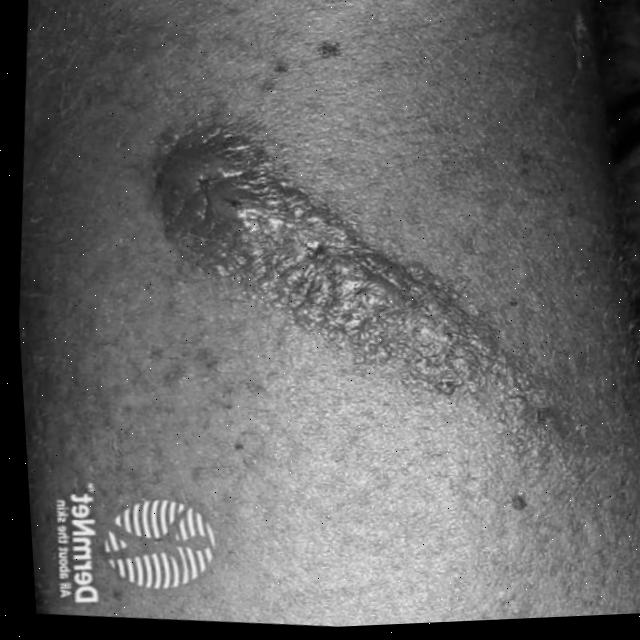Eczema: (139, 140, 551, 454)
